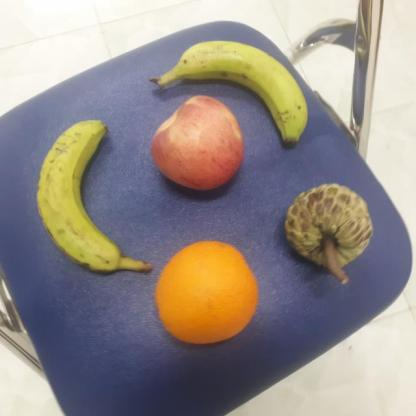annona: (279, 184, 376, 277)
apple: (148, 95, 245, 199)
banana: (152, 38, 313, 148), (34, 112, 132, 272)
orange: (152, 238, 266, 349)
